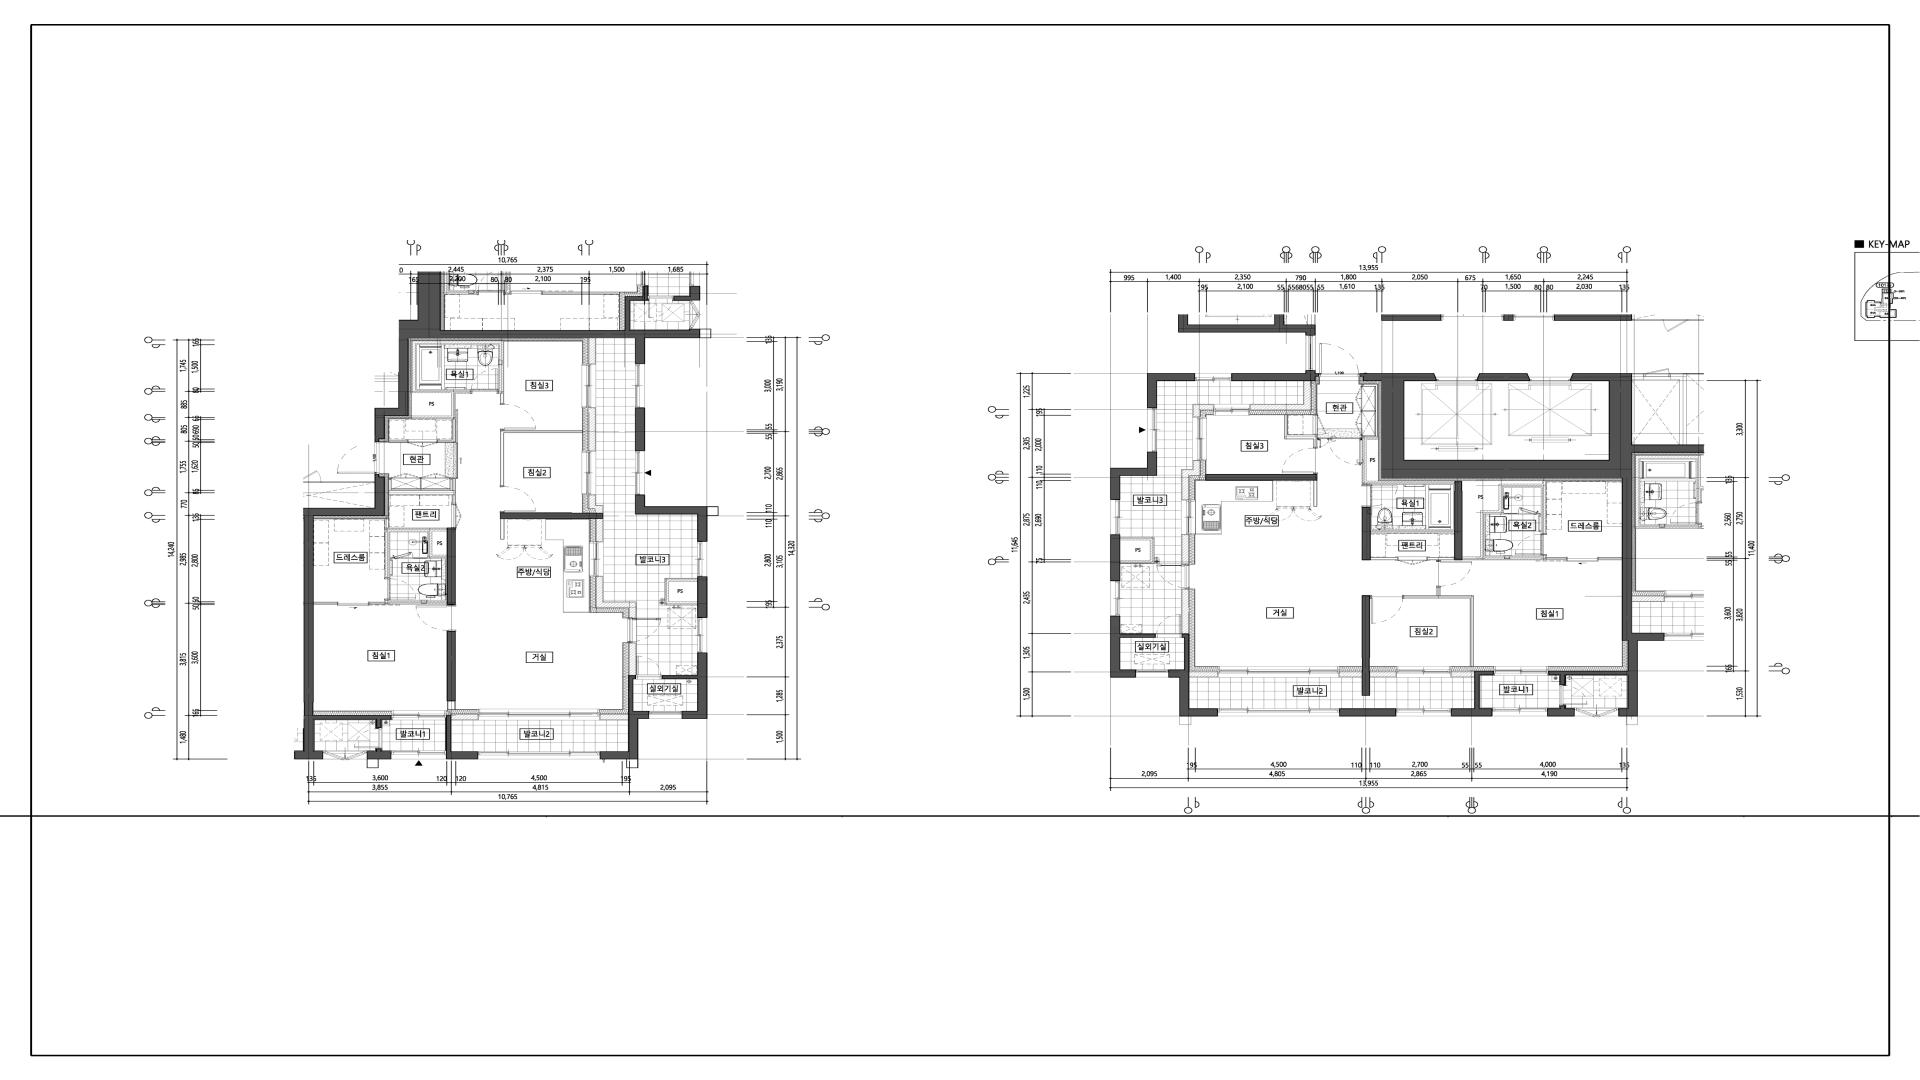door: (1319, 343, 1360, 377), (1317, 438, 1362, 465), (415, 604, 456, 632), (1282, 447, 1317, 475), (500, 404, 537, 430), (628, 617, 661, 644), (1156, 564, 1189, 589), (385, 578, 417, 600), (1515, 534, 1547, 556), (471, 369, 498, 394), (636, 655, 662, 679), (1155, 615, 1182, 638), (1559, 684, 1588, 705), (355, 728, 382, 749), (1313, 415, 1327, 435), (451, 504, 462, 527), (390, 553, 427, 559), (407, 439, 438, 447), (1398, 556, 1428, 564), (338, 601, 369, 607), (1567, 556, 1598, 562), (456, 443, 458, 479)
wall: (1360, 373, 1638, 716), (375, 328, 700, 442), (1362, 436, 1567, 560), (303, 475, 392, 760), (411, 342, 504, 442), (369, 520, 456, 605), (1340, 595, 1396, 696), (1404, 587, 1473, 666), (500, 495, 603, 542), (500, 430, 583, 485), (1168, 633, 1218, 716), (600, 675, 649, 760), (1205, 475, 1317, 506), (636, 495, 708, 542), (1178, 314, 1316, 336), (662, 653, 708, 719), (1110, 616, 1156, 678), (1110, 452, 1156, 500), (1451, 671, 1494, 717), (1250, 381, 1312, 410), (1147, 373, 1195, 409), (595, 576, 636, 617), (389, 479, 455, 504), (446, 716, 479, 760), (1284, 415, 1317, 447), (1232, 371, 1319, 381), (1120, 538, 1154, 563), (1182, 460, 1200, 500), (447, 632, 456, 709), (1340, 708, 1396, 717), (1555, 314, 1633, 320), (1110, 534, 1121, 582), (698, 576, 708, 618), (1477, 373, 1530, 381), (636, 407, 645, 451), (1382, 314, 1441, 320), (433, 531, 447, 555), (1182, 589, 1189, 633), (1547, 705, 1575, 716), (588, 407, 595, 451), (367, 749, 392, 760), (1193, 405, 1213, 417), (1182, 535, 1189, 564), (629, 644, 636, 675), (600, 713, 628, 720), (451, 713, 479, 720), (588, 338, 595, 364), (1189, 671, 1217, 676), (1452, 671, 1474, 676), (1503, 314, 1514, 320), (314, 603, 338, 605), (1598, 558, 1622, 560), (389, 440, 407, 442)
window: (1218, 666, 1340, 678), (479, 709, 600, 720), (1218, 708, 1340, 716), (479, 752, 600, 760), (1396, 666, 1451, 678), (582, 451, 596, 495), (582, 364, 596, 407), (1192, 417, 1207, 460), (1494, 666, 1548, 675), (392, 711, 446, 720), (392, 750, 446, 760), (1182, 500, 1196, 534), (589, 542, 604, 576), (323, 750, 367, 761), (1493, 708, 1547, 716), (1396, 708, 1451, 716), (1147, 409, 1156, 452), (636, 451, 645, 495), (636, 364, 645, 407), (1575, 708, 1618, 717), (1215, 405, 1250, 415), (1305, 335, 1315, 371), (1110, 500, 1120, 534), (1110, 582, 1120, 616), (698, 618, 707, 653), (698, 542, 707, 576), (1195, 373, 1232, 381), (1135, 670, 1168, 678), (649, 711, 682, 719)
